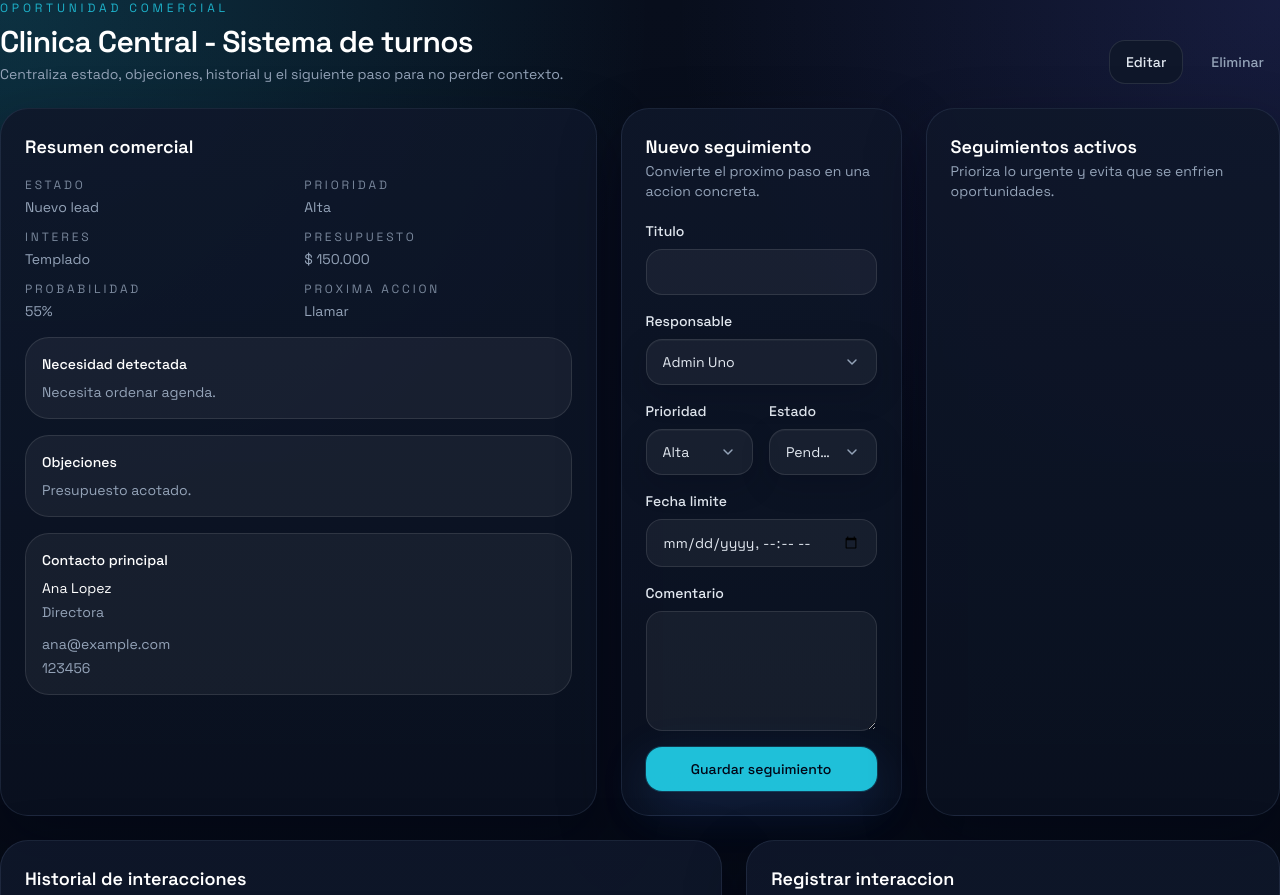
Test: OpportunityDetailPage › abre el modal de borrado de oportunidad
The image size is (1280, 895).
Expected: the heading "Clinica Central - Sistema de turnos" is shown, [0, 22, 473, 61]
Click the button "Eliminar".
click(1238, 62)  # box [1195, 40, 1279, 84]
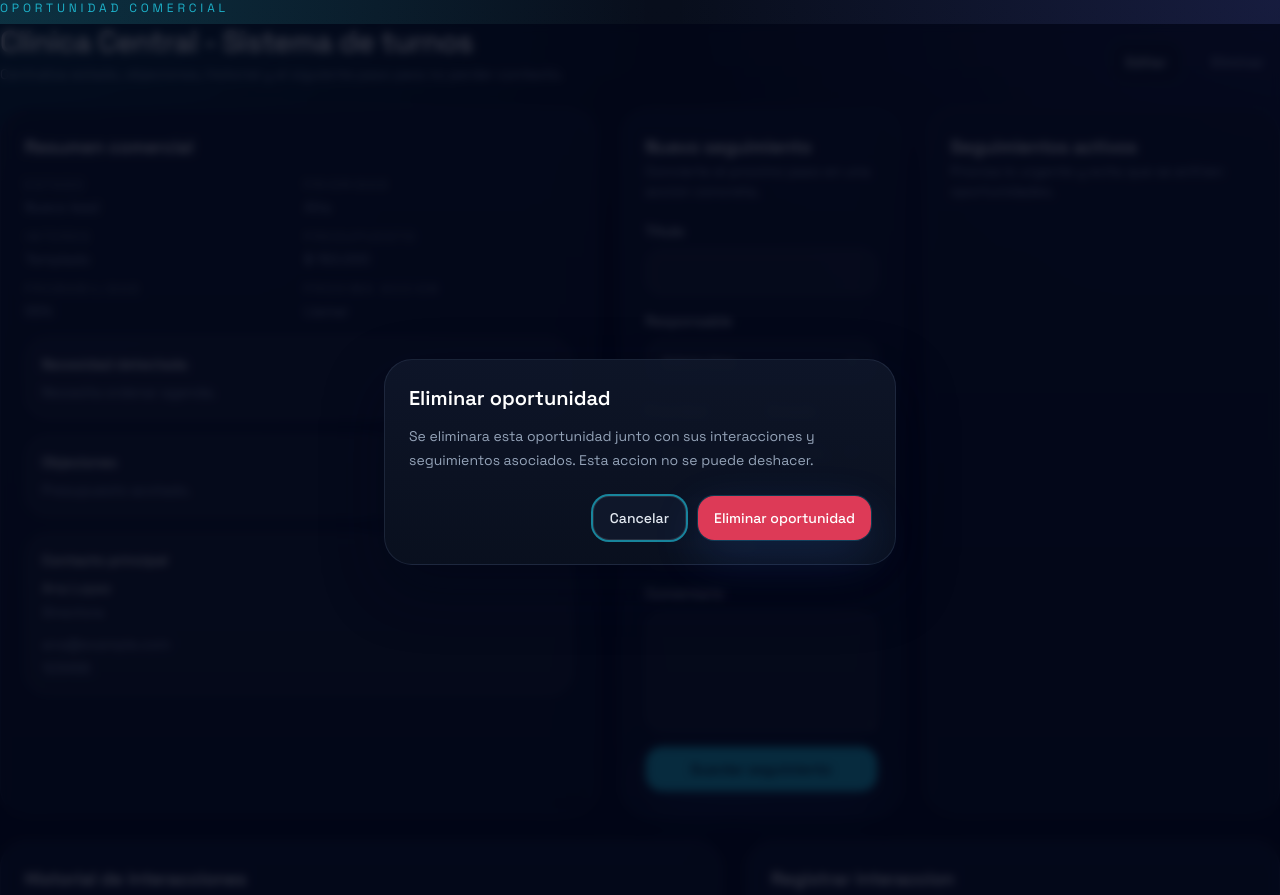
Now the dialog "Eliminar oportunidad" is shown, box [384, 359, 896, 565]
Now the text "interacciones y seguimientos asociados" is shown, box [409, 427, 814, 469]
